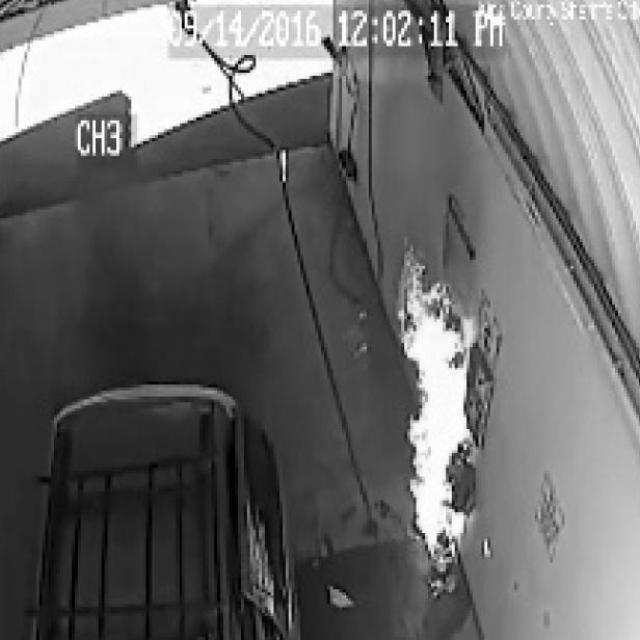smoke: (394, 248, 486, 560)
